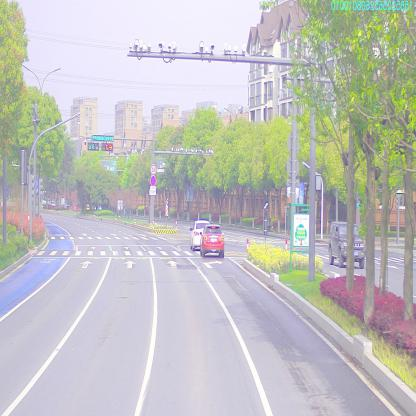traffic-light: (92, 133, 114, 144), (103, 143, 114, 152), (88, 145, 98, 152)
